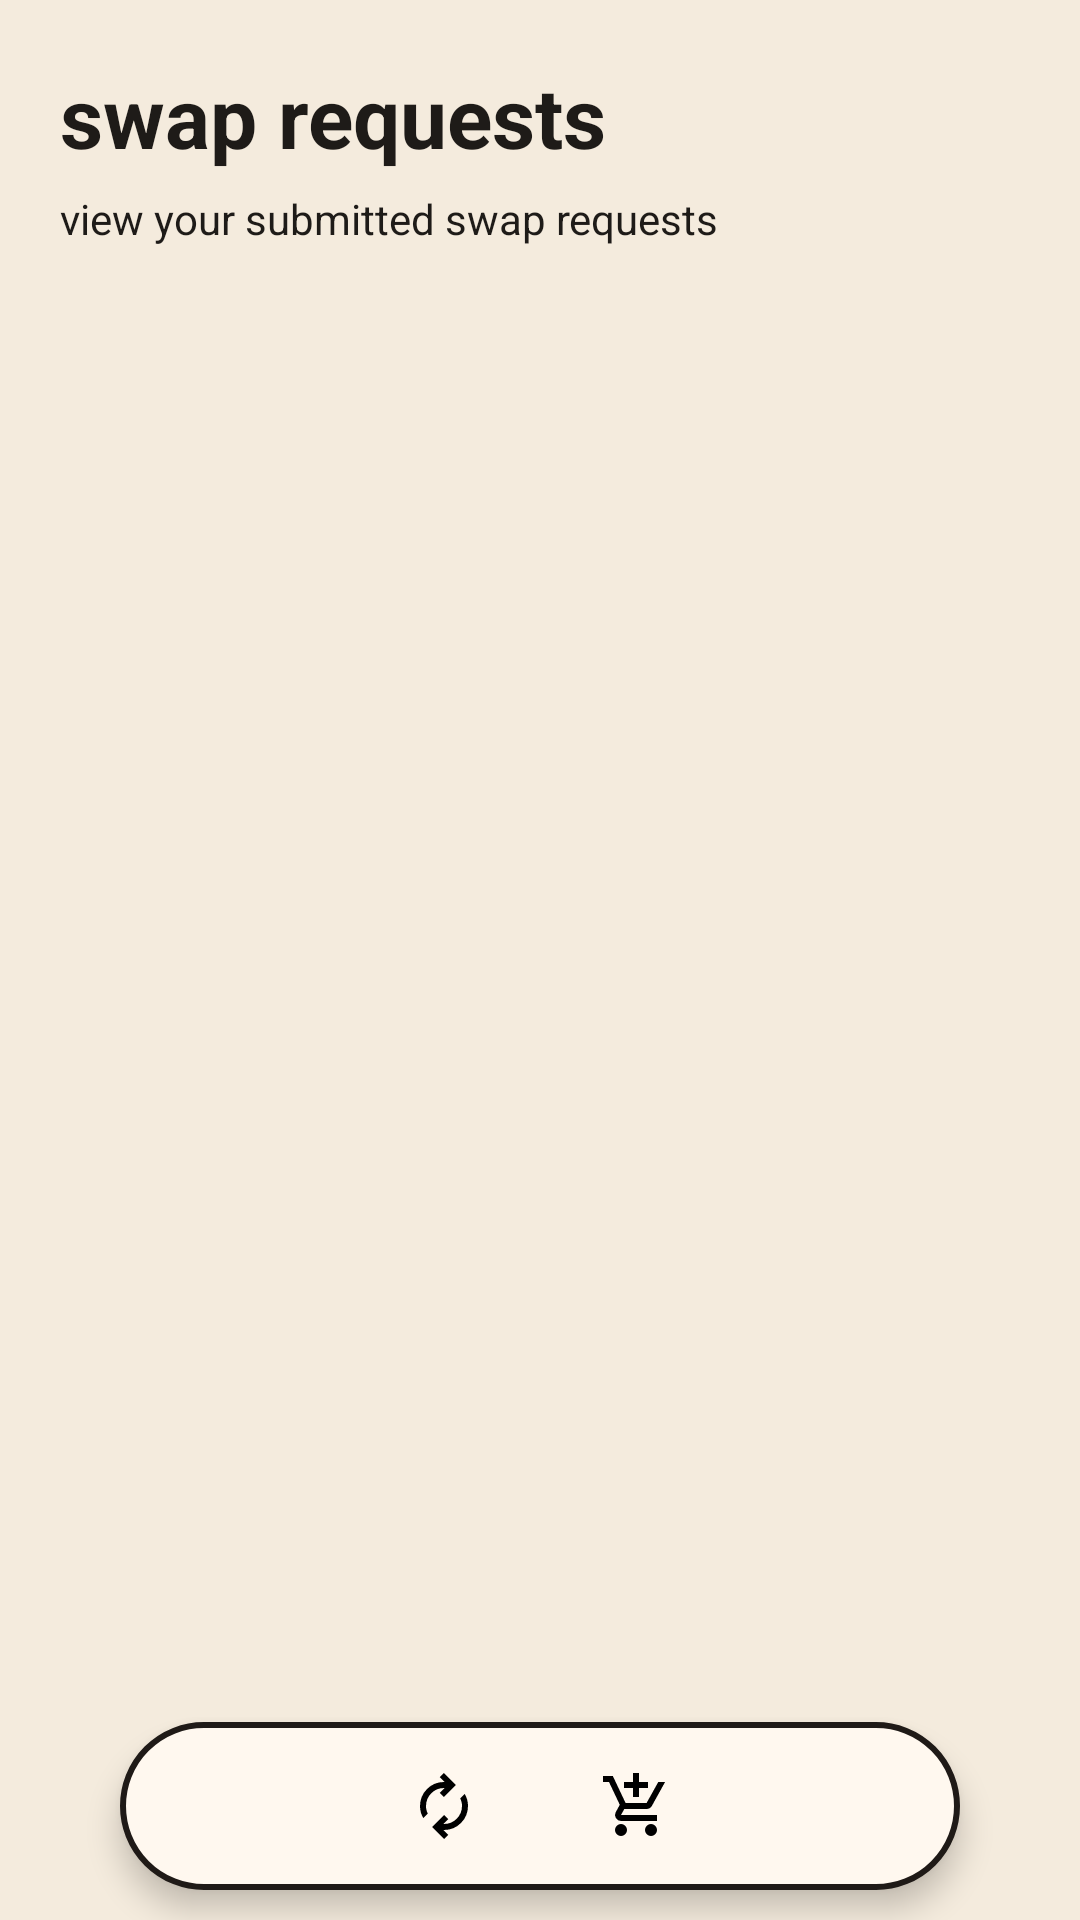

Where icons sit on this 1080*1920 app screen, as (x1, y1, x2, y2):
Cart: (603, 1773, 665, 1836)
Swap: (420, 1773, 468, 1839)
